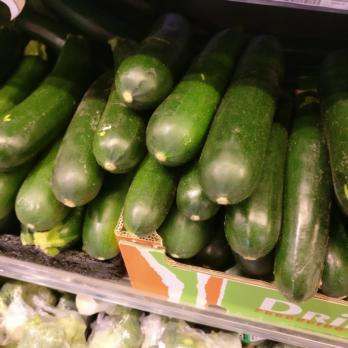Cucumber: (0, 0, 348, 247)
